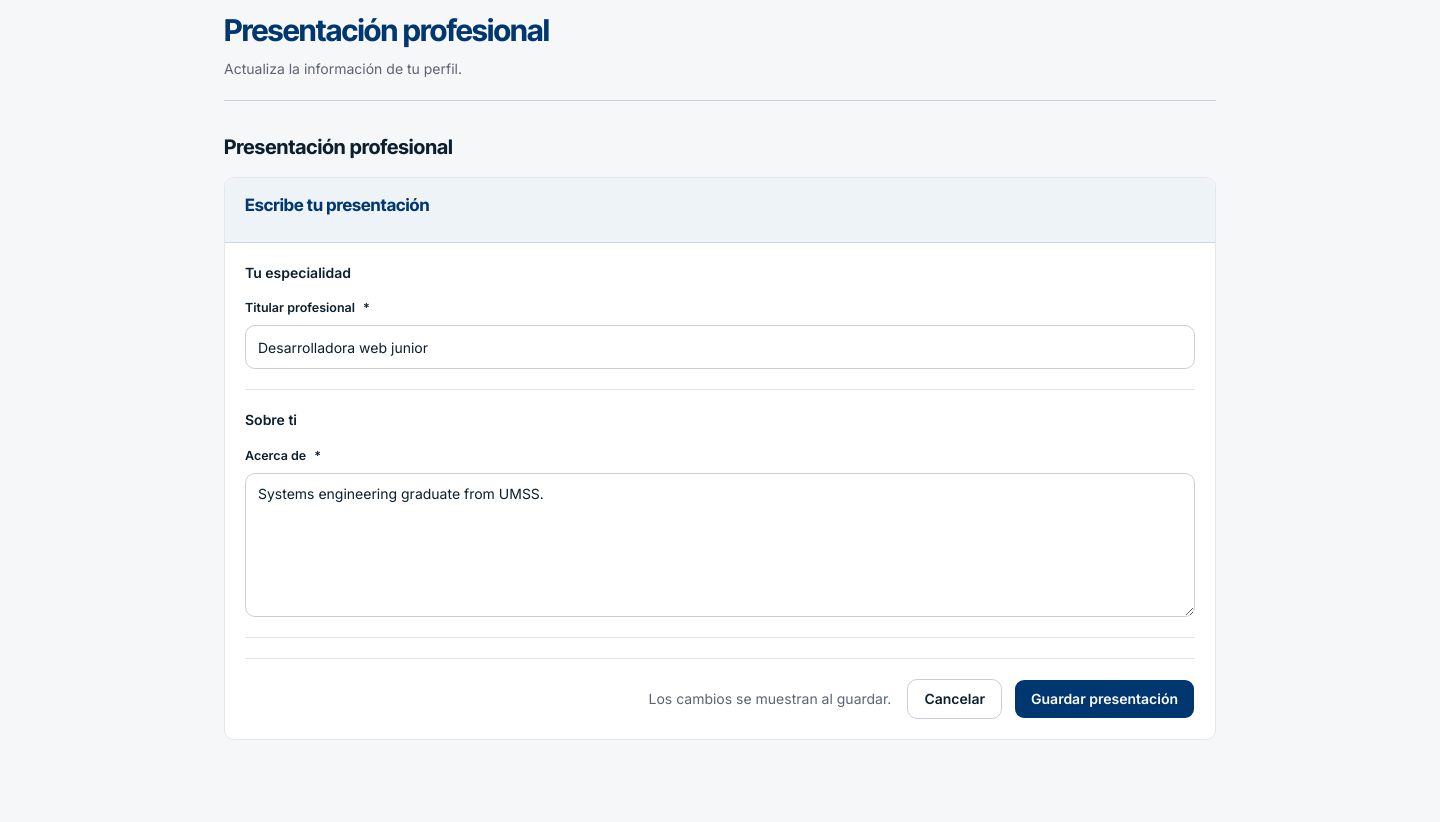
Test: PresentationView › saves the headline and about me and shows a confirmation
Replace the text in the field labelled "Titular profesional *" with "Desarrolladora frontend" at (720, 348), box [245, 326, 1195, 370]
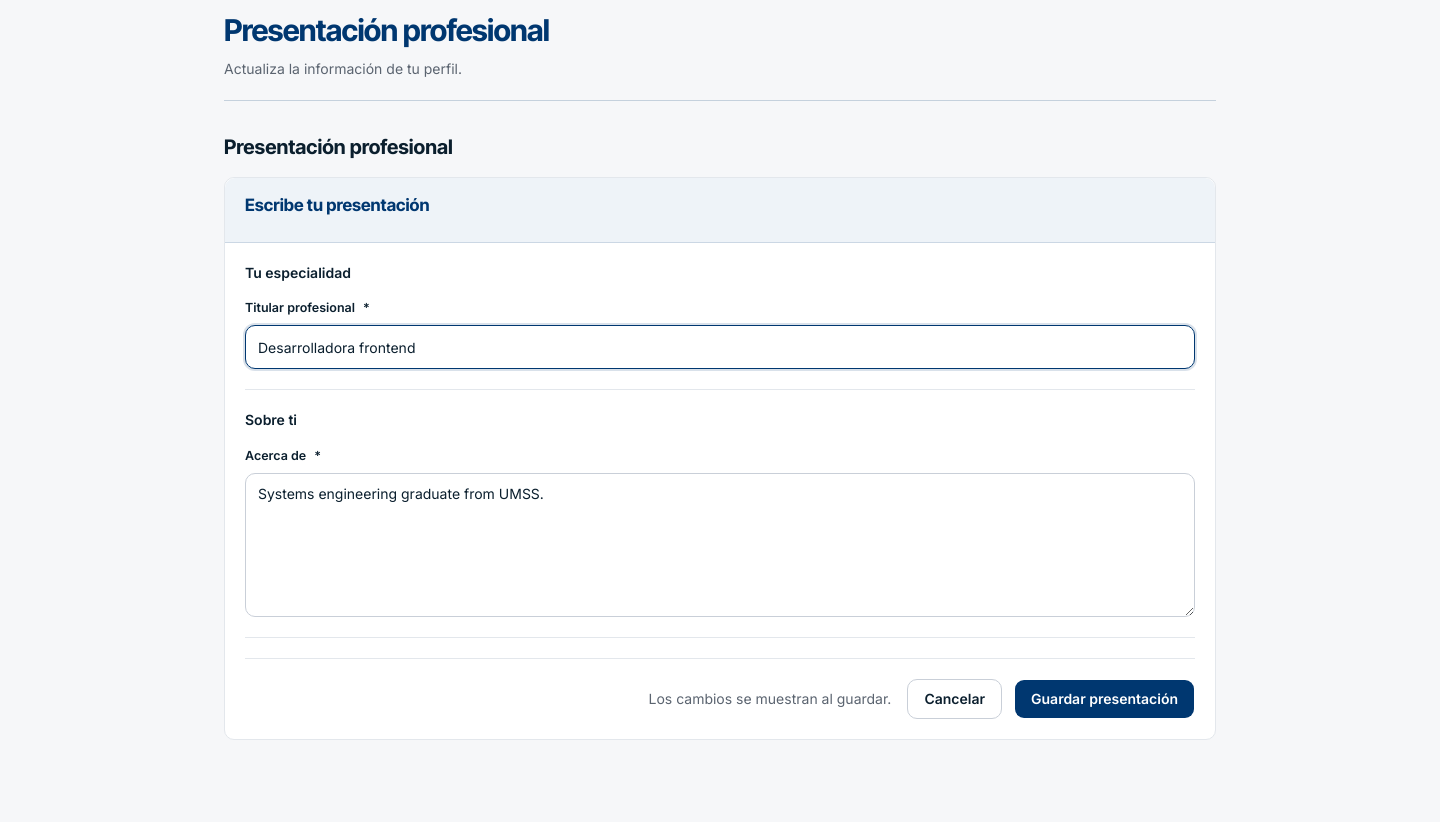
Click the button "Guardar presentación".
click(1104, 699)  # box [1014, 679, 1195, 719]
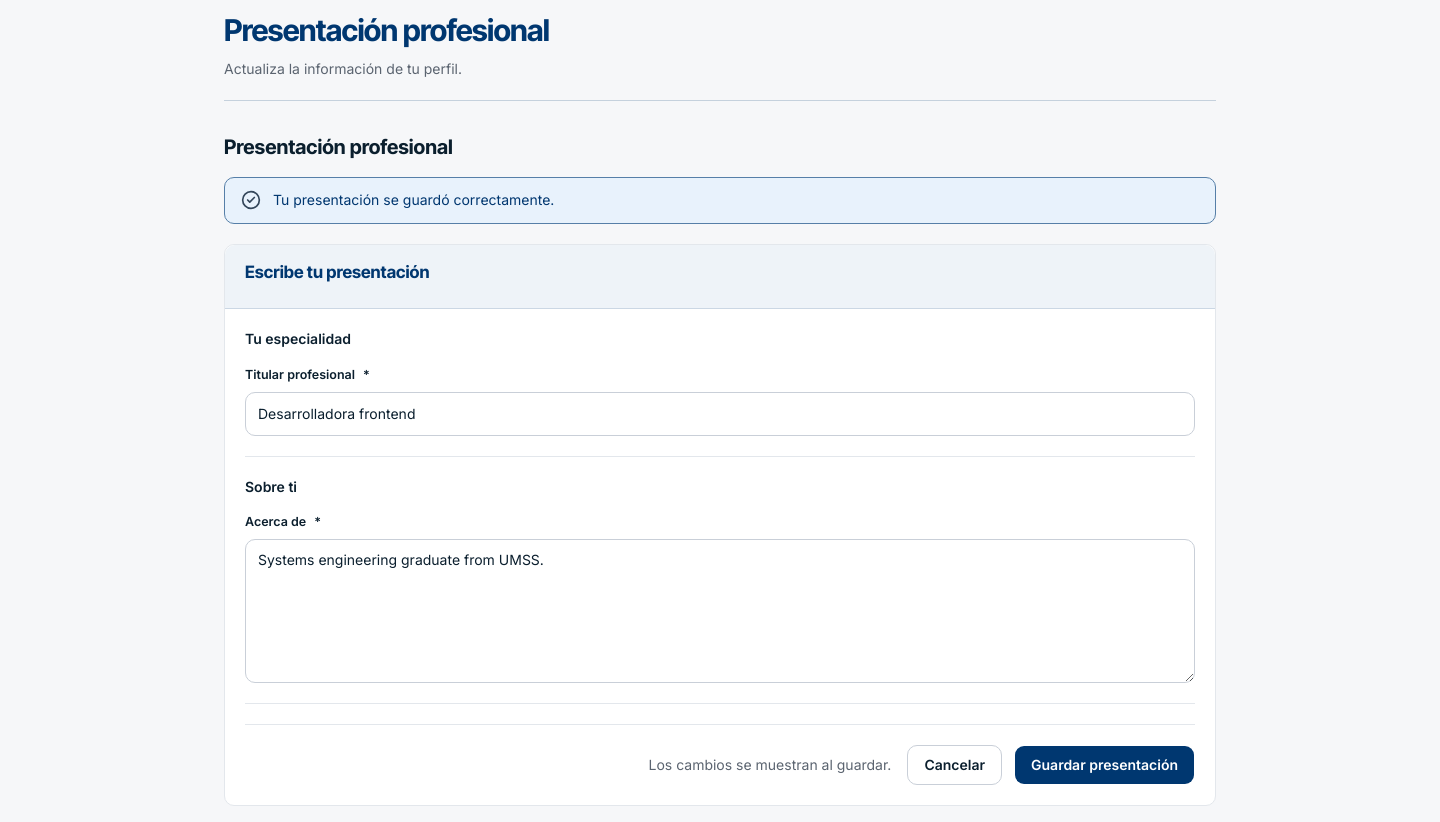
Result: the text "Tu presentación se guardó correctamente." is shown at [273, 190, 554, 211]
